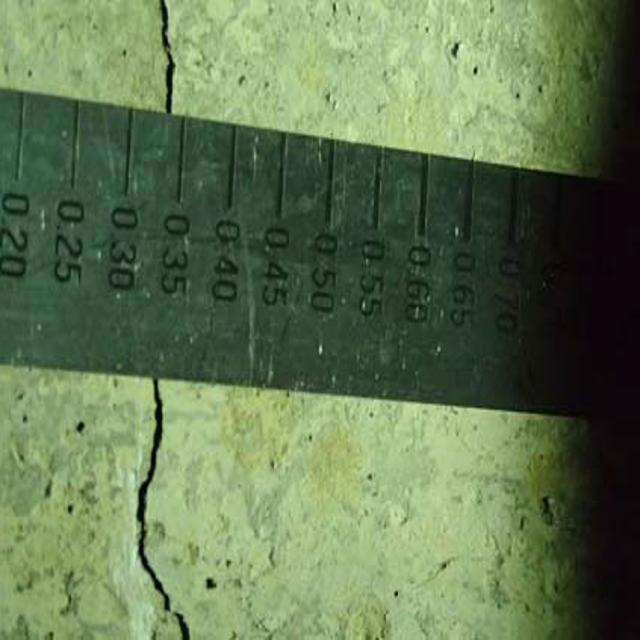crack: (122, 378, 201, 640), (140, 4, 193, 120)
